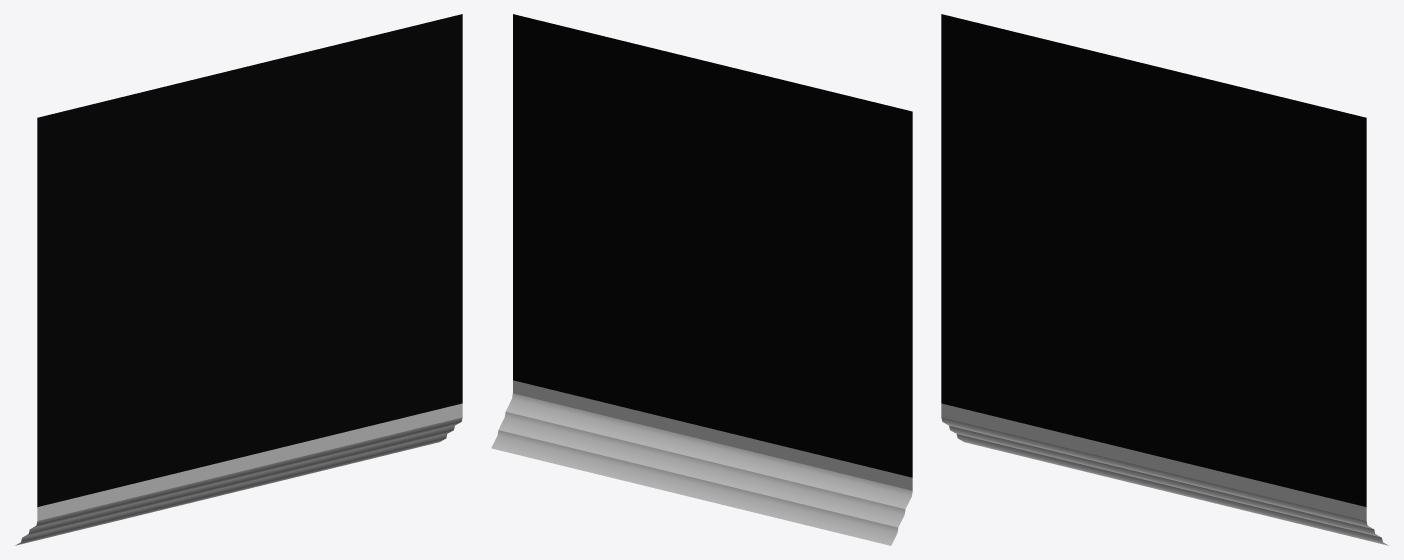
The model's file is Voltic-Cave_02_00.obj.
3 views of the same model, side by side, from view 1: azimuth 30°, elevation 25°; view 2: azimuth 150°, elevation 25°; view 3: azimuth 330°, elevation 25° (orthographic). The views are drawn at different scales.
Parts seen in each view (by area): view 1: map; view 2: map; view 3: map.
Boxes of the visible parts, x1=… form: map: x1=15, y1=14, x2=462, y2=545; map: x1=491, y1=14, x2=912, y2=545; map: x1=941, y1=14, x2=1388, y2=545.
Bounding box in the file's own units: 32 × 32 × 3.
